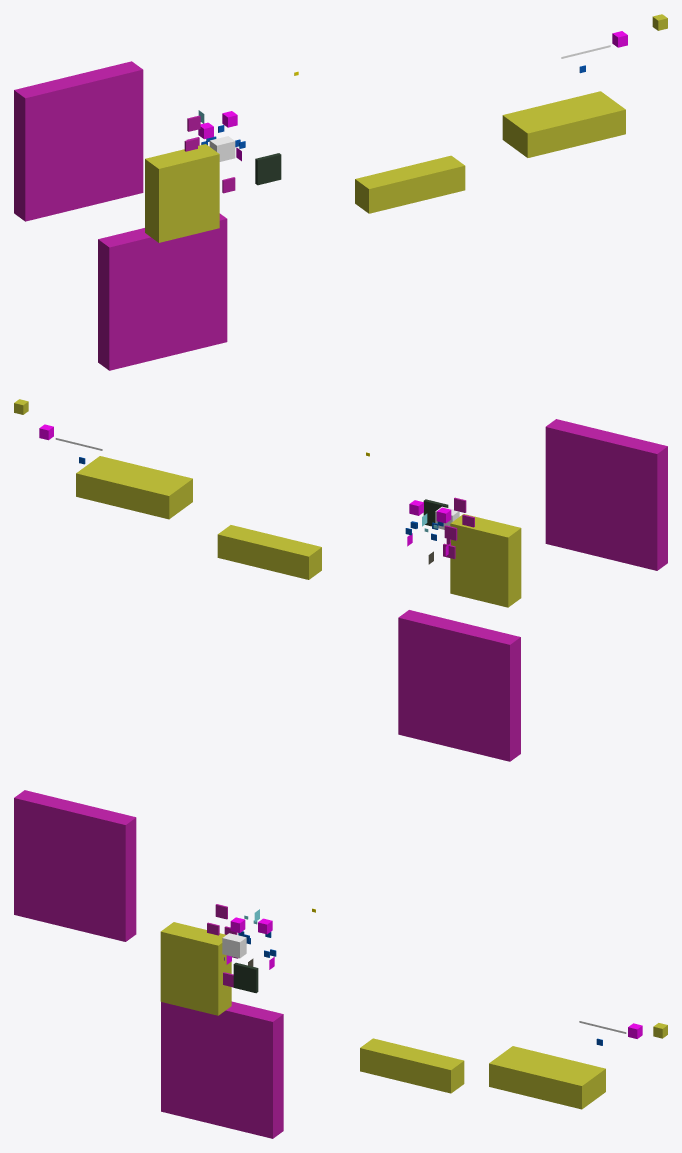
The picture shows the model from 3 angles, top to bottom: view 1: azimuth 30°, elevation 25°; view 2: azimuth 150°, elevation 25°; view 3: azimuth 330°, elevation 25°; orthographic projection. The views are drawn at different scales.
Parts seen in each view (by area): view 1: HitZone_2147482394, HitZone_2147482394_(copy), Faders, Mixer, HitZone_2147482397; view 2: HitZone_2147482394_(copy), HitZone_2147482394, Faders, Mixer; view 3: HitZone_2147482394, HitZone_2147482394_(copy), Faders, Mixer, HitZone_2147482397, GroupIE_2147482345.
Part boxes in pixels (<box>): HitZone_2147482394: <box>14,61,143,221</box>; HitZone_2147482394_(copy): <box>98,213,227,370</box>; Faders: <box>145,144,465,242</box>; Mixer: <box>502,91,625,157</box>; HitZone_2147482397: <box>255,153,281,185</box>; HitZone_2147482394_(copy): <box>398,610,520,761</box>; HitZone_2147482394: <box>545,419,667,570</box>; Faders: <box>217,514,521,607</box>; Mixer: <box>76,456,192,519</box>; HitZone_2147482394: <box>14,790,136,941</box>; HitZone_2147482394_(copy): <box>161,1001,283,1138</box>; Faders: <box>160,922,464,1093</box>; Mixer: <box>489,1046,605,1109</box>; HitZone_2147482397: <box>233,962,258,993</box>; GroupIE_2147482345: <box>222,933,246,958</box>.
Size of what is drawn, in the model's own units: 1689 by 797 by 210.
